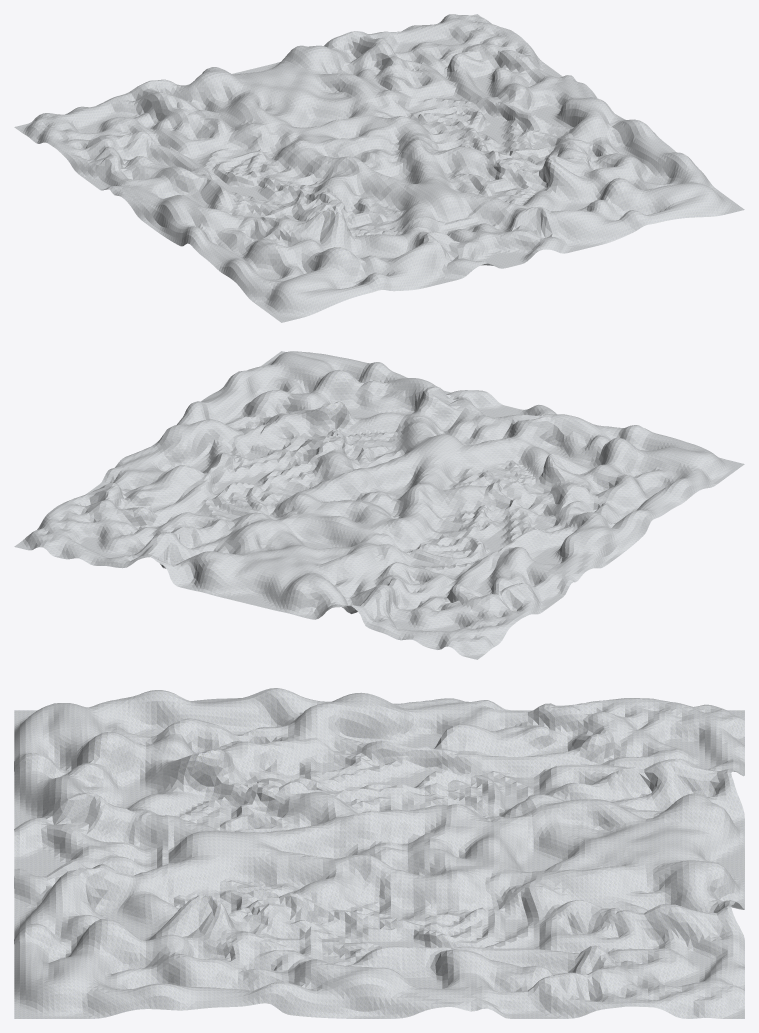
File: snow_terrain.obj
3 views of the same model, one above another, from view 1: azimuth 30°, elevation 25°; view 2: azimuth 150°, elevation 25°; view 3: azimuth 270°, elevation 25° (orthographic). The views are drawn at different scales.
Visible parts, largest first — view 1: Plane; view 2: Plane; view 3: Plane.
Part boxes in pixels (<box>): Plane: <box>14,14,744,322</box>; Plane: <box>14,351,744,659</box>; Plane: <box>14,688,744,1018</box>.
Size of the model in its own units: 825 by 51.23 by 824.
1 material, 1 textured.
